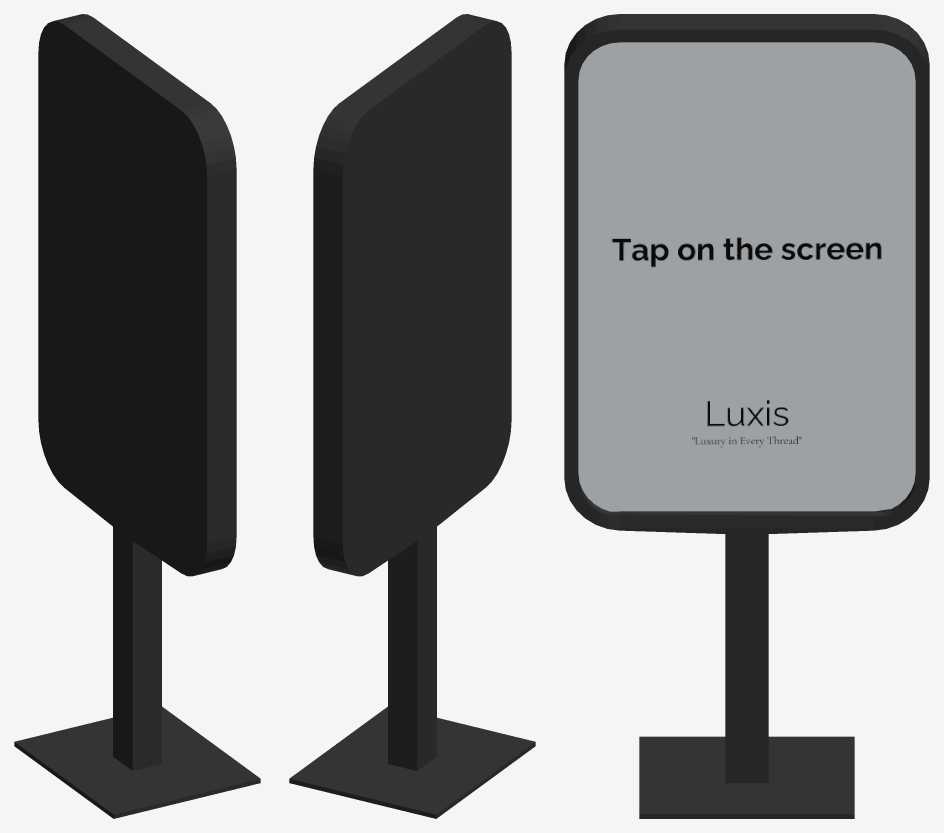
Rendered from Schermcode.fbx.
The picture shows the model from 3 angles, left to right: view 1: azimuth 30°, elevation 25°; view 2: azimuth 150°, elevation 25°; view 3: azimuth 270°, elevation 25°; orthographic projection. The views are drawn at different scales.
Parts seen in each view (by area): view 1: Cube; view 2: Cube; view 3: Cube.
Part boxes in pixels (x1,y1,x2,y2): Cube: [14, 14, 260, 818]; Cube: [289, 14, 535, 818]; Cube: [564, 14, 929, 818].
Size of the model in its own units: 198 by 901 by 393.
